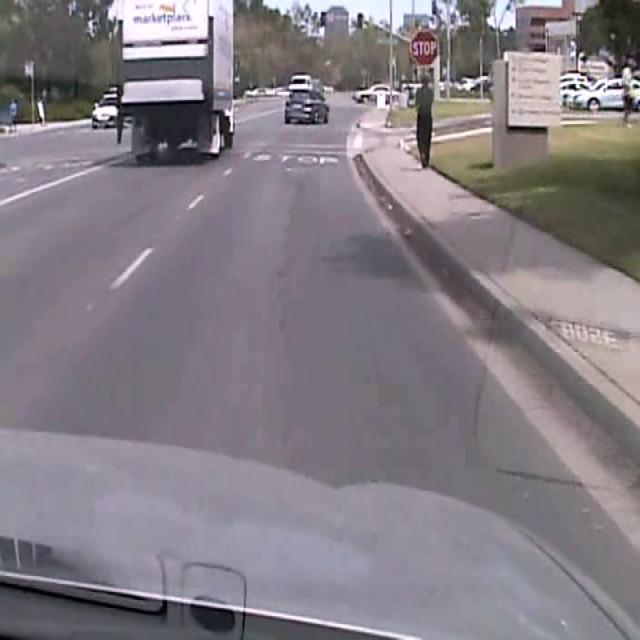stop_sign: (410, 28, 437, 65)
